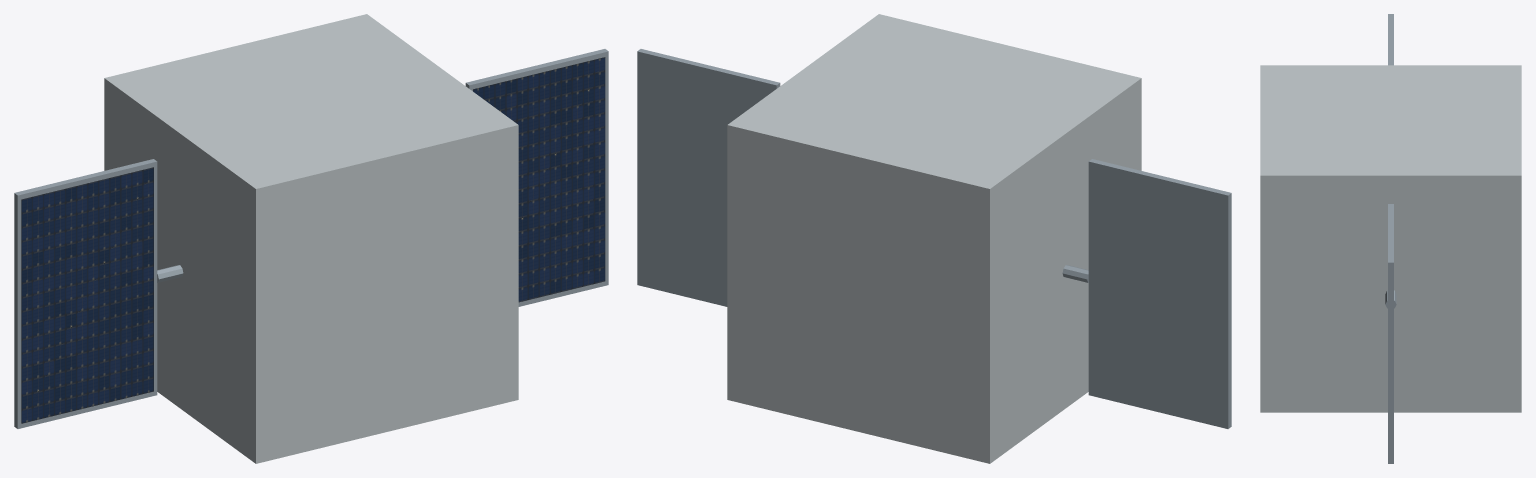
Rendered from ref-mmx-101109.glb.
3 views of the same model, side by side, from view 1: azimuth 30°, elevation 25°; view 2: azimuth 150°, elevation 25°; view 3: azimuth 270°, elevation 25° (orthographic). The views are drawn at different scales.
Parts seen in each view (by area): view 1: Spacecraft body, Photovoltaic laminates (×2), Array frame (×2); view 2: Spacecraft body, Array frame (×2); view 3: Spacecraft body, Array frame (×2).
Boxes of the visible parts, box(x1,y1,x2,y2) form: Spacecraft body: box(104, 14, 518, 463); Photovoltaic laminates (×2): box(21, 57, 605, 423); Array frame (×2): box(14, 49, 608, 428); Spacecraft body: box(727, 14, 1141, 463); Array frame (×2): box(637, 49, 1231, 428); Spacecraft body: box(1260, 65, 1521, 412); Array frame (×2): box(1388, 14, 1393, 463).
Bounding box in the file's own units: 9 × 4 × 4.
3 materials, 1 textured.
